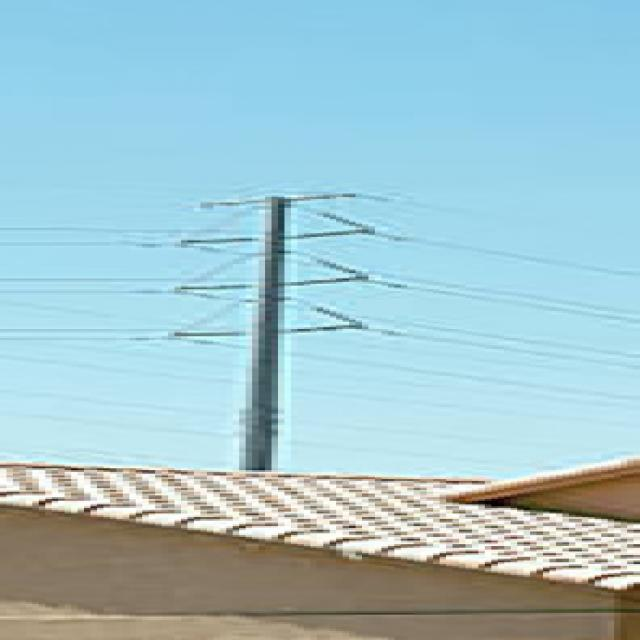pole: (151, 174, 407, 474)
